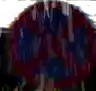No waiting: (6, 0, 95, 90)
